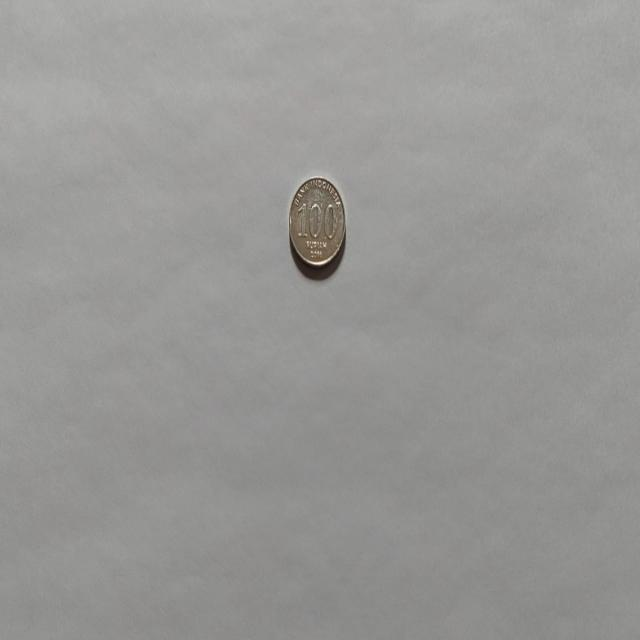seratus rupiah: (288, 174, 346, 270)
